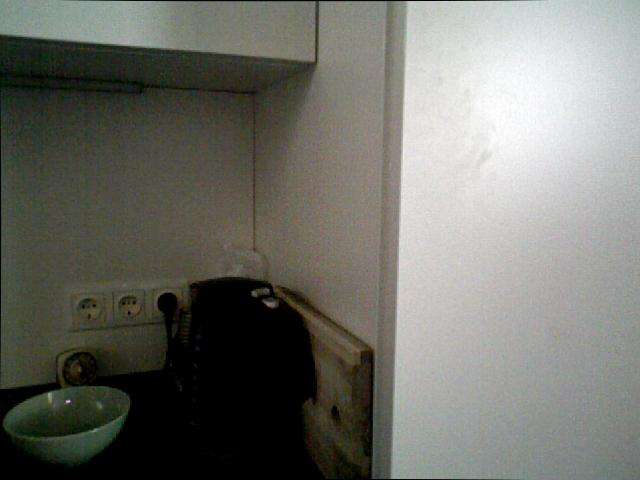couch: (2, 385, 131, 467)
giraffe: (51, 349, 101, 392)
hot dog: (391, 0, 640, 480)
